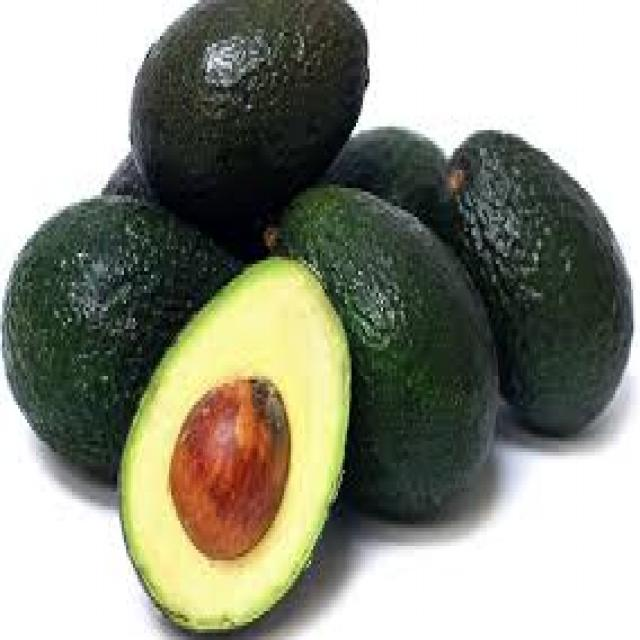avocado: (117, 256, 351, 640), (351, 186, 502, 556), (498, 86, 637, 445), (133, 0, 369, 180), (4, 199, 236, 286)
